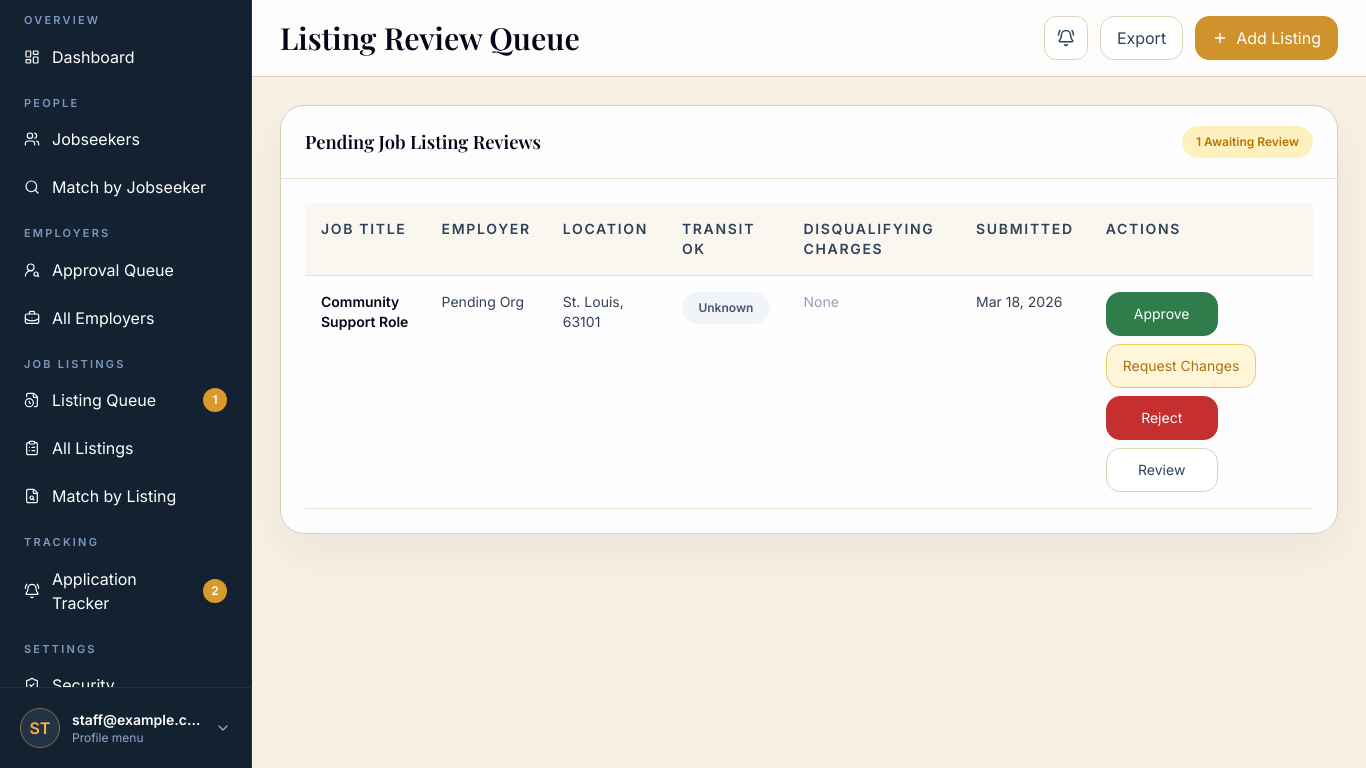
it: listing queue shows unknown transit status when accessibility has not been computed
Expected: the text "Community Support Role" is shown, [305,276,426,508]
Expected: the cell "Unknown" is shown, [666,276,788,508]
Click the button "Review" at coordinates (1162, 470), box [1106,448,1218,492]
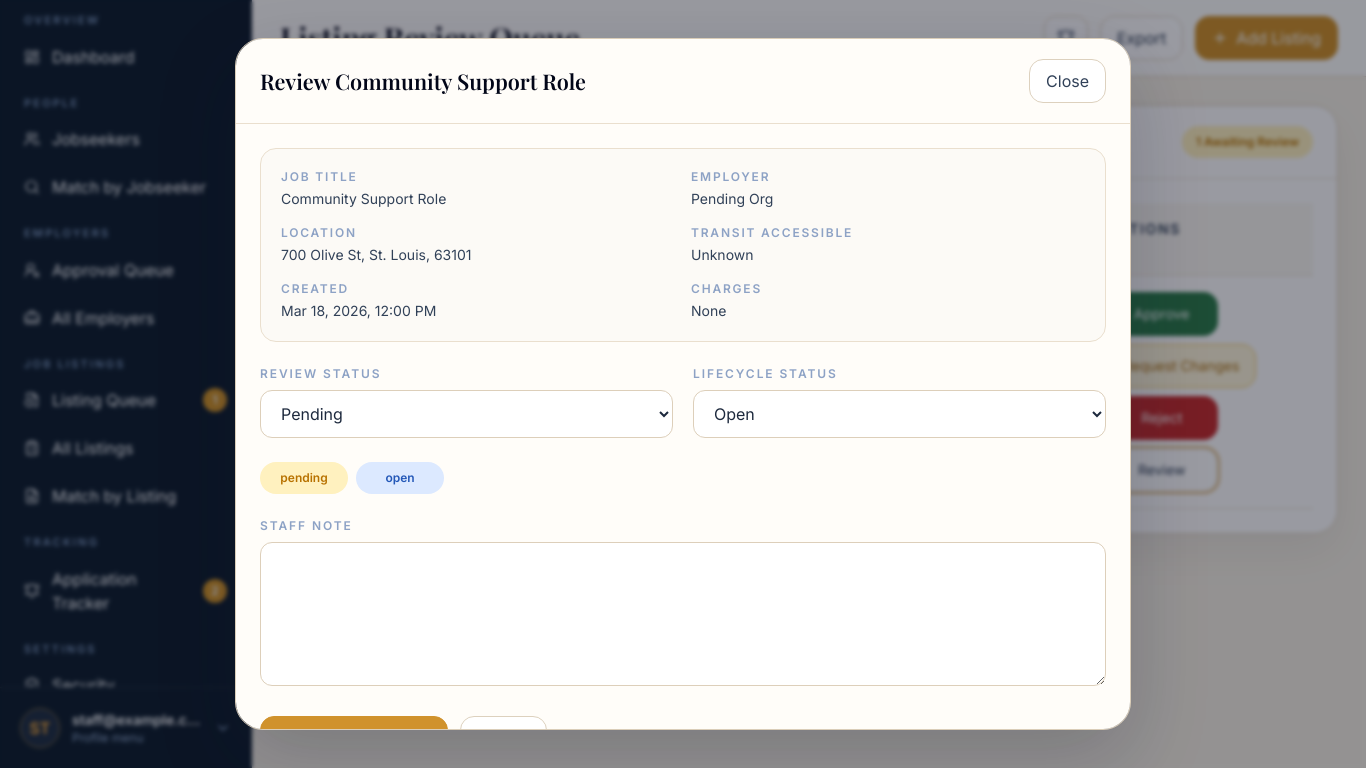
Expected: the text "Unknown" below "Transit OK" is shown, [698,300,753,315]
Now the heading "Review Community Support Role" is shown, box [260,65,586,98]
